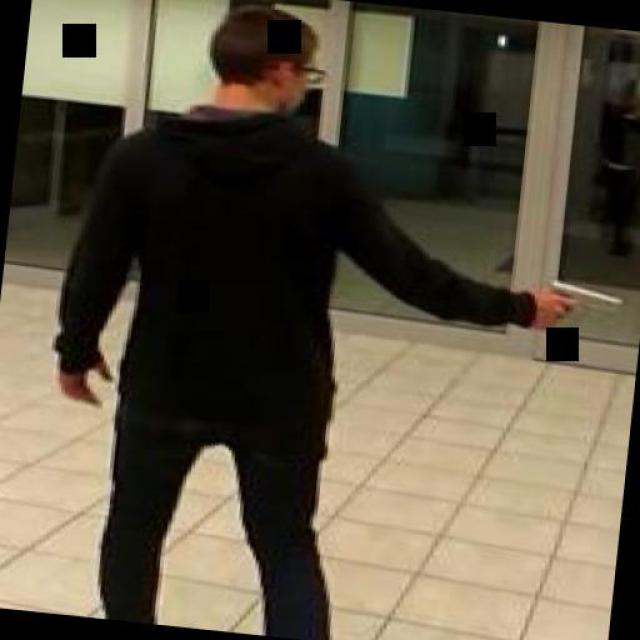gun: (536, 274, 622, 328)
